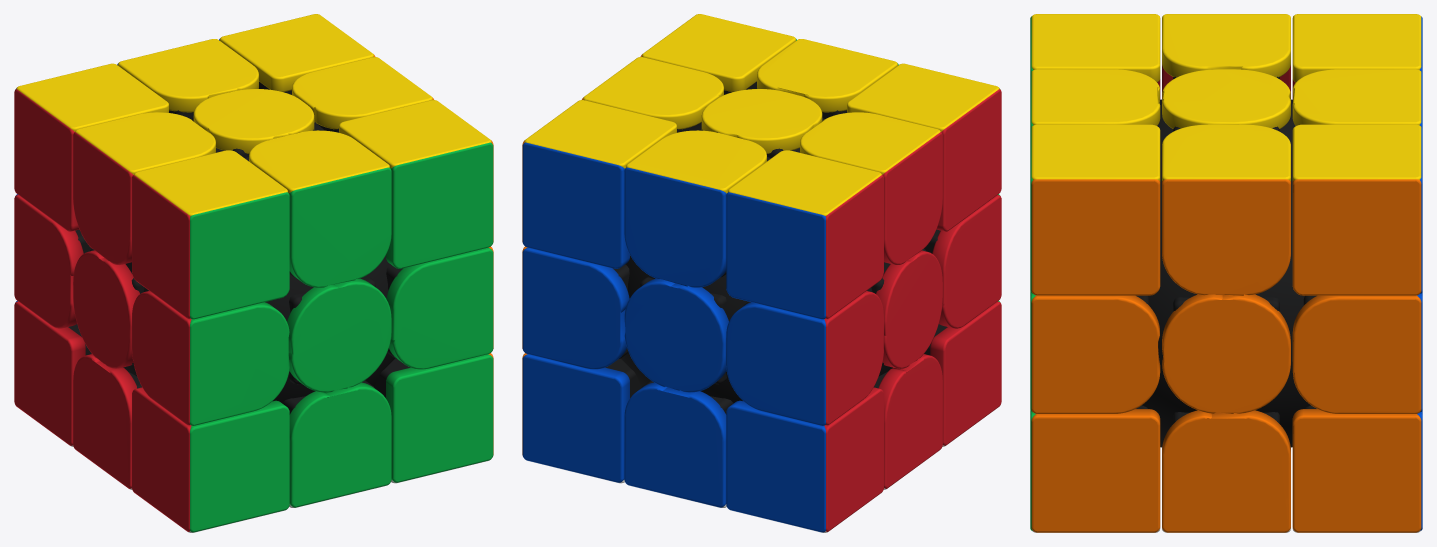
The picture shows the model from 3 angles, left to right: view 1: azimuth 30°, elevation 25°; view 2: azimuth 150°, elevation 25°; view 3: azimuth 270°, elevation 25°; orthographic projection. The views are drawn at different scales.
Visible parts, largest first — view 1: piece_-1,1,1, piece_-1,-1,1, piece_1,1,1, piece_-1,0,1, piece_0,1,1, piece_-1,1,-1, piece_1,-1,1, piece_-1,1,0, piece_0,-1,1, piece_1,0,1, piece_0,0,1, piece_-1,-1,-1 (+8 smaller); view 2: piece_-1,1,-1, piece_-1,-1,-1, piece_1,1,-1, piece_-1,0,-1, piece_0,1,-1, piece_-1,1,1, piece_1,-1,-1, piece_-1,1,0, piece_0,-1,-1, piece_1,0,-1, piece_0,0,-1, piece_-1,-1,1 (+8 smaller); view 3: piece_1,1,-1, piece_1,1,1, piece_1,1,0, piece_1,-1,1, piece_1,-1,-1, piece_1,-1,0, piece_1,0,-1, piece_1,0,1, piece_1,0,0, piece_-1,1,0, piece_-1,1,-1, piece_-1,1,1 (+4 smaller).
Part boxes in pixels (x1,y1,x2,y2): piece_-1,1,1: (132,150,289,319); piece_-1,-1,1: (132,387,289,532); piece_1,1,1: (339,100,493,268); piece_-1,0,1: (131,291,289,425); piece_0,1,1: (249,130,391,287); piece_-1,1,-1: (14,63,168,231); piece_1,-1,1: (374,353,493,483); piece_-1,1,0: (73,112,215,264); piece_0,-1,1: (282,380,391,507); piece_1,0,1: (386,246,493,369); piece_0,0,1: (287,277,391,392); piece_-1,-1,-1: (14,300,91,446); piece_-1,1,-1: (726,150,883,319); piece_-1,-1,-1: (726,387,883,532); piece_1,1,-1: (522,100,676,268); piece_-1,0,-1: (726,291,883,425); piece_0,1,-1: (624,130,766,287); piece_-1,1,1: (847,63,1001,231); piece_1,-1,-1: (522,353,641,483); piece_-1,1,0: (800,112,942,264); piece_0,-1,-1: (624,380,733,507); piece_1,0,-1: (522,246,629,369); piece_0,0,-1: (624,277,728,392); piece_-1,-1,1: (924,300,1001,446); piece_1,1,-1: (1292,124,1422,295); piece_1,1,1: (1030,124,1160,295); piece_1,1,0: (1162,124,1290,295); piece_1,-1,1: (1030,405,1160,532); piece_1,-1,-1: (1292,405,1422,532); piece_1,-1,0: (1162,410,1290,532); piece_1,0,-1: (1292,292,1422,413); piece_1,0,1: (1030,292,1160,413); piece_1,0,0: (1162,294,1290,413); piece_-1,1,0: (1162,14,1290,98); piece_-1,1,-1: (1292,14,1422,99); piece_-1,1,1: (1030,14,1160,99).
Size of the model in its own units: 2 by 2 by 2.
